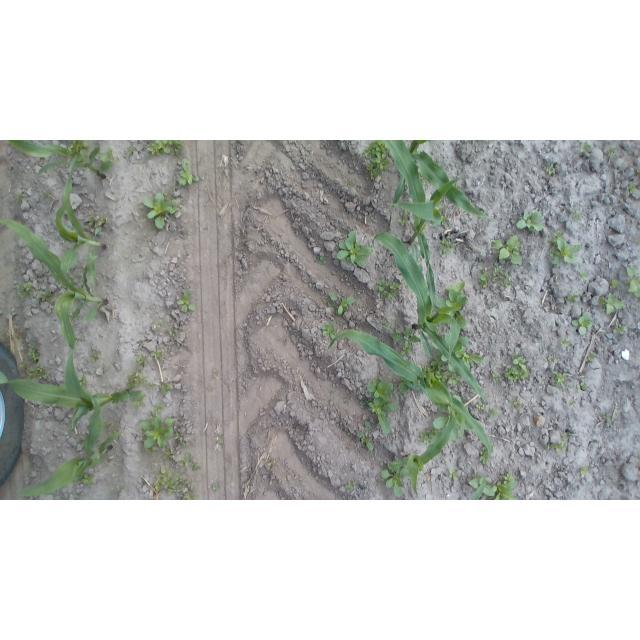Maize: (328, 330, 492, 460), (373, 231, 486, 410), (0, 219, 108, 350), (382, 140, 460, 318), (1, 345, 142, 436), (13, 392, 124, 497), (392, 140, 492, 220), (55, 155, 106, 285), (388, 407, 456, 499), (7, 140, 106, 178)
Weeds: (362, 379, 398, 435), (432, 333, 484, 371), (434, 395, 475, 441), (422, 350, 462, 388), (434, 282, 466, 329), (142, 193, 180, 229), (337, 231, 373, 266), (138, 416, 174, 449), (154, 469, 195, 495), (363, 140, 389, 180), (491, 235, 524, 265), (380, 463, 409, 497), (391, 328, 422, 357), (548, 236, 580, 264), (490, 472, 519, 500), (123, 366, 153, 391), (505, 353, 529, 382), (327, 292, 355, 316), (178, 158, 199, 186), (469, 474, 495, 496), (517, 211, 544, 232), (20, 362, 51, 380), (148, 141, 185, 156), (598, 294, 624, 315), (624, 266, 640, 298), (572, 311, 593, 335), (375, 279, 400, 298), (417, 427, 441, 445), (177, 290, 195, 313), (97, 148, 117, 167), (180, 453, 201, 471), (493, 268, 511, 289), (67, 140, 90, 156), (321, 321, 340, 339), (357, 432, 374, 451), (439, 237, 456, 256), (480, 443, 494, 466), (398, 375, 414, 394), (17, 284, 34, 301), (148, 404, 164, 420), (553, 370, 567, 388), (38, 289, 55, 303), (479, 269, 490, 290), (77, 473, 94, 486), (545, 443, 567, 453), (28, 347, 40, 365), (159, 382, 175, 394), (131, 395, 146, 407), (614, 322, 629, 334), (578, 141, 591, 154), (396, 214, 409, 226), (175, 431, 186, 445), (77, 375, 87, 390), (150, 348, 162, 360), (417, 171, 428, 184), (565, 293, 578, 304), (89, 351, 101, 362), (165, 448, 176, 459), (448, 469, 458, 481), (577, 465, 589, 475), (345, 482, 358, 491), (183, 492, 197, 500), (547, 163, 556, 175), (88, 213, 95, 228), (610, 279, 620, 289), (315, 256, 326, 265), (608, 148, 617, 159), (629, 183, 638, 194), (490, 407, 499, 418), (439, 212, 446, 225), (126, 146, 135, 156), (137, 355, 146, 365), (561, 338, 571, 347), (585, 354, 595, 363), (577, 382, 586, 392), (98, 216, 106, 227), (364, 420, 372, 431), (512, 400, 523, 408), (548, 356, 559, 364), (41, 191, 51, 199), (434, 200, 442, 210), (492, 373, 500, 383), (476, 401, 484, 411), (579, 271, 588, 279), (561, 432, 568, 442), (103, 421, 114, 427), (168, 328, 176, 336), (575, 211, 582, 219), (144, 449, 153, 455), (382, 321, 389, 328), (15, 194, 21, 202), (554, 232, 563, 237), (606, 413, 611, 422), (109, 430, 116, 436), (218, 436, 223, 444), (212, 370, 217, 378), (59, 383, 65, 389), (81, 435, 87, 441), (477, 496, 486, 500), (156, 321, 162, 327), (618, 197, 624, 202), (213, 485, 218, 491), (260, 236, 266, 241), (295, 327, 301, 332), (569, 402, 574, 407), (349, 182, 354, 187), (346, 429, 350, 435), (635, 239, 640, 243), (557, 175, 561, 179), (268, 462, 272, 466), (637, 169, 640, 174), (486, 140, 489, 142)
